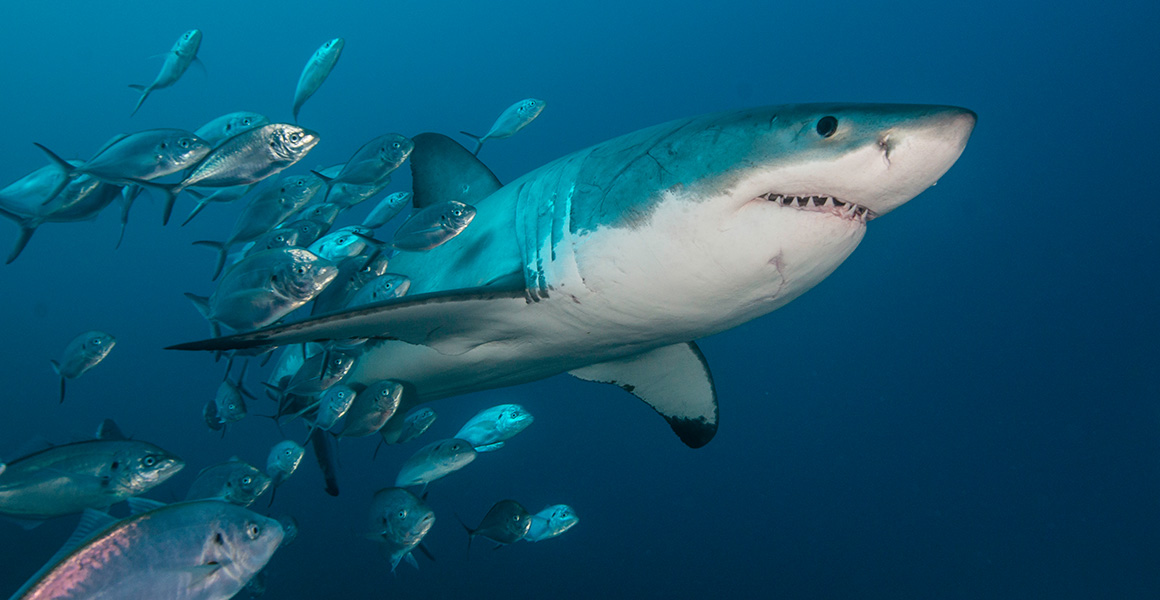shark: (153, 79, 1008, 459)
